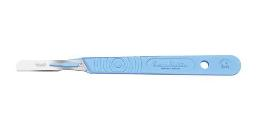scalpel: (16, 54, 242, 76)
